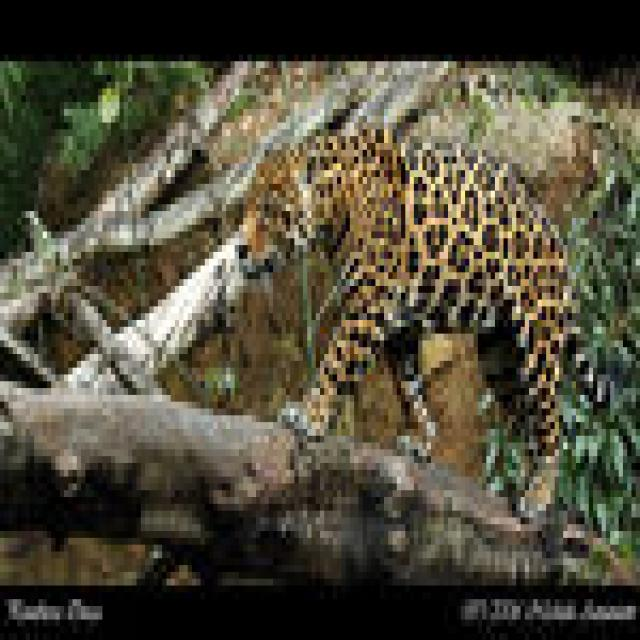Leopard: (226, 116, 576, 524)
